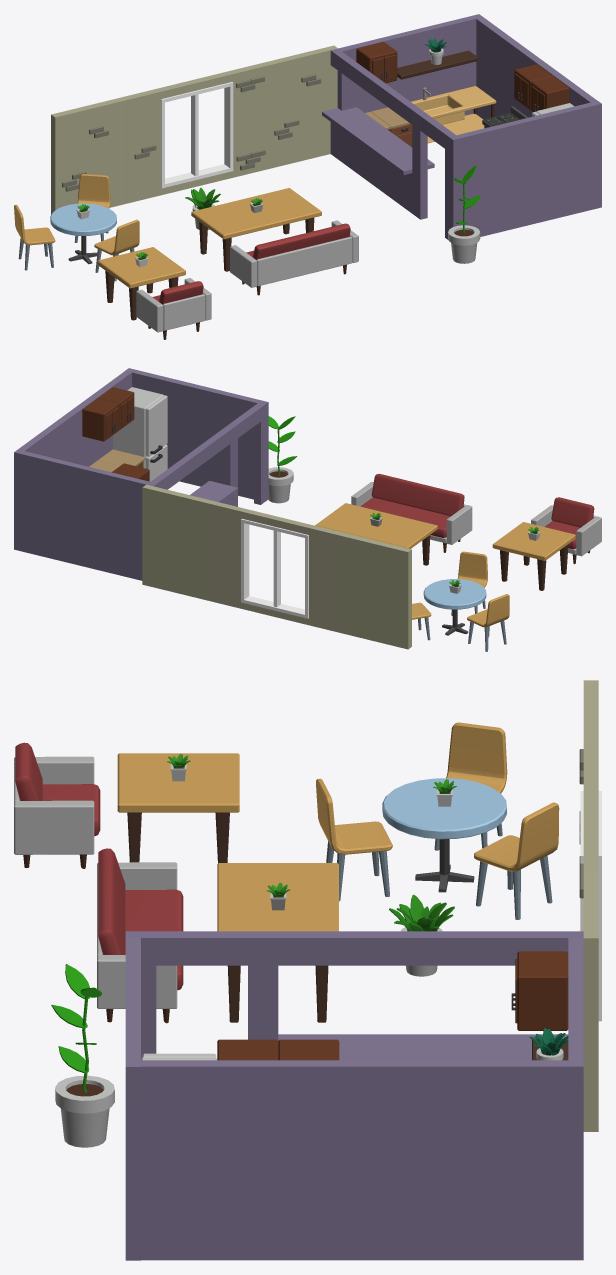
File: Kitchen.fbx
The picture shows the model from 3 angles, top to bottom: view 1: azimuth 30°, elevation 25°; view 2: azimuth 150°, elevation 25°; view 3: azimuth 270°, elevation 25°; orthographic projection. The views are drawn at different scales.
Visible parts, largest first — view 1: polySurface600, polySurface253, polySurface503, polySurface598, polySurface595, polySurface559, polySurface599, polySurface596, polySurface417, polySurface208, polySurface518, polySurface240 (+8 smaller); view 2: polySurface600, polySurface253, polySurface598, polySurface503, polySurface595, polySurface498, polySurface559, polySurface596, polySurface599, polySurface518, polySurface208, polySurface240 (+5 smaller); view 3: polySurface600, polySurface559, polySurface595, polySurface599, polySurface596, polySurface208, polySurface240, polySurface525, polySurface455, polySurface503, polySurface462, polySurface253 (+5 smaller).
Boxes of the visible parts, box(x1,y1,x2,y2) form: polySurface600: box(322, 14, 601, 240); polySurface253: box(122, 62, 267, 203); polySurface503: box(264, 45, 337, 169); polySurface598: box(51, 97, 125, 214); polySurface595: box(230, 220, 358, 295); polySurface559: box(191, 188, 321, 271); polySurface599: box(136, 278, 211, 339); polySurface596: box(97, 247, 185, 320); polySurface417: box(411, 86, 496, 143); polySurface208: box(50, 203, 116, 264); polySurface518: box(514, 64, 569, 112); polySurface240: box(448, 165, 480, 263); polySurface600: box(14, 368, 268, 580); polySurface253: box(209, 501, 345, 633); polySurface598: box(341, 533, 411, 649); polySurface503: box(142, 484, 212, 600); polySurface595: box(351, 473, 472, 552); polySurface498: box(113, 387, 167, 481); polySurface559: box(315, 503, 437, 565); polySurface596: box(492, 522, 575, 590); polySurface599: box(531, 497, 601, 564); polySurface518: box(82, 387, 134, 441); polySurface208: box(423, 579, 486, 635); polySurface240: box(268, 416, 297, 503); polySurface600: box(125, 931, 583, 1260); polySurface559: box(217, 863, 338, 1022); polySurface595: box(97, 848, 183, 1023); polySurface599: box(14, 742, 100, 868); polySurface596: box(117, 753, 239, 863); polySurface208: box(382, 778, 506, 892); polySurface240: box(51, 964, 114, 1147); polySurface525: box(511, 951, 568, 1030); polySurface455: box(474, 802, 559, 919); polySurface503: box(583, 874, 598, 1131); polySurface462: box(434, 722, 507, 850); polySurface253: box(579, 745, 601, 1021).
Size of the model in its own units: 6977 by 1500 by 3854.
1 material, 1 textured.
